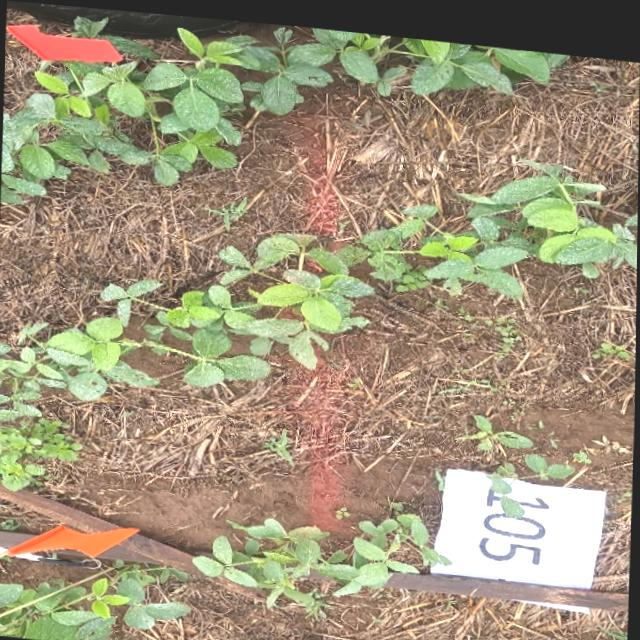caruru_weed: (0, 417, 82, 490), (458, 299, 521, 348), (346, 369, 375, 397), (592, 330, 631, 347), (335, 500, 350, 512)
grassy_weed: (203, 192, 247, 226), (264, 424, 294, 459), (601, 618, 628, 636)
soy_plant: (0, 154, 638, 422), (0, 22, 565, 203), (194, 505, 447, 610), (0, 559, 190, 640), (457, 405, 533, 441), (487, 453, 523, 505), (525, 443, 575, 468), (73, 16, 104, 36), (390, 493, 403, 503)
